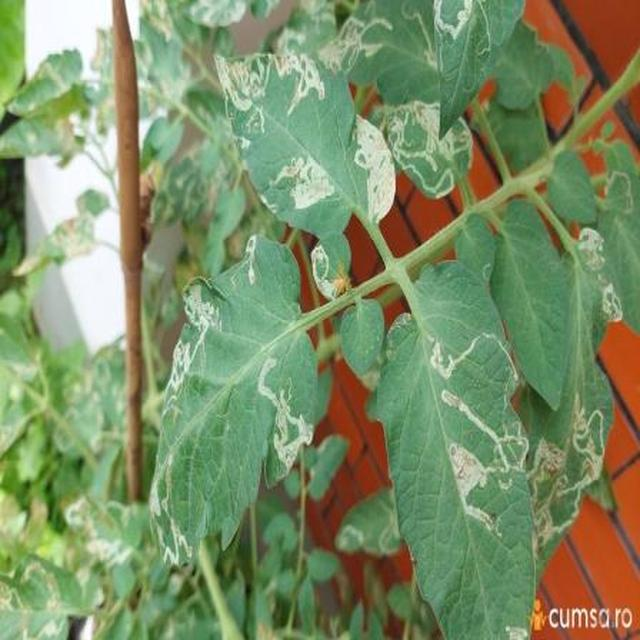Leaf Miner: (57, 74, 640, 640)
